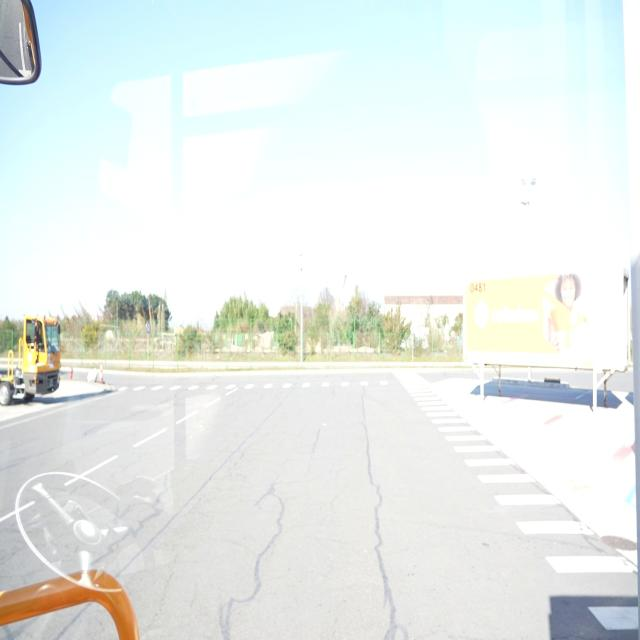Code: (466, 278, 492, 300)
